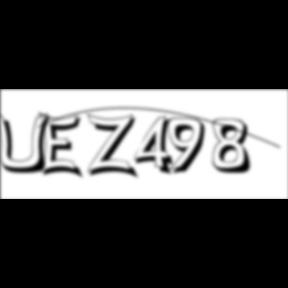4: (134, 115, 180, 179)
8: (212, 117, 258, 176)
9: (168, 117, 212, 177)
E: (38, 110, 88, 182)
U: (0, 110, 56, 176)
Z: (86, 112, 142, 181)
